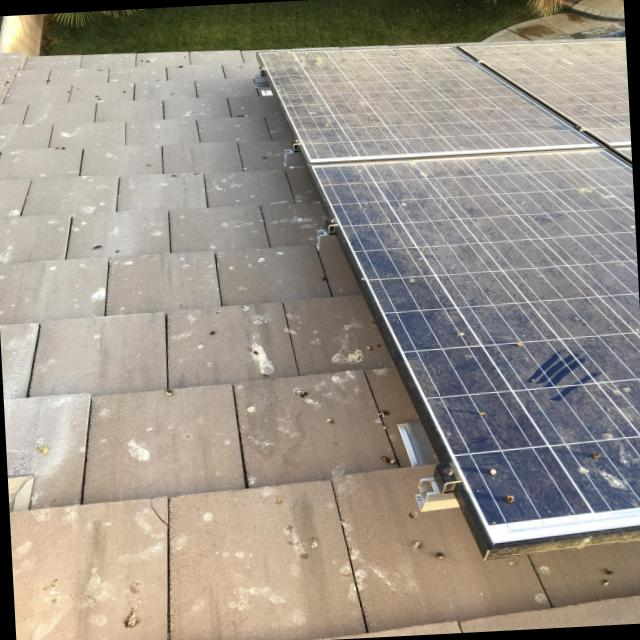faulty: (257, 40, 640, 540)
